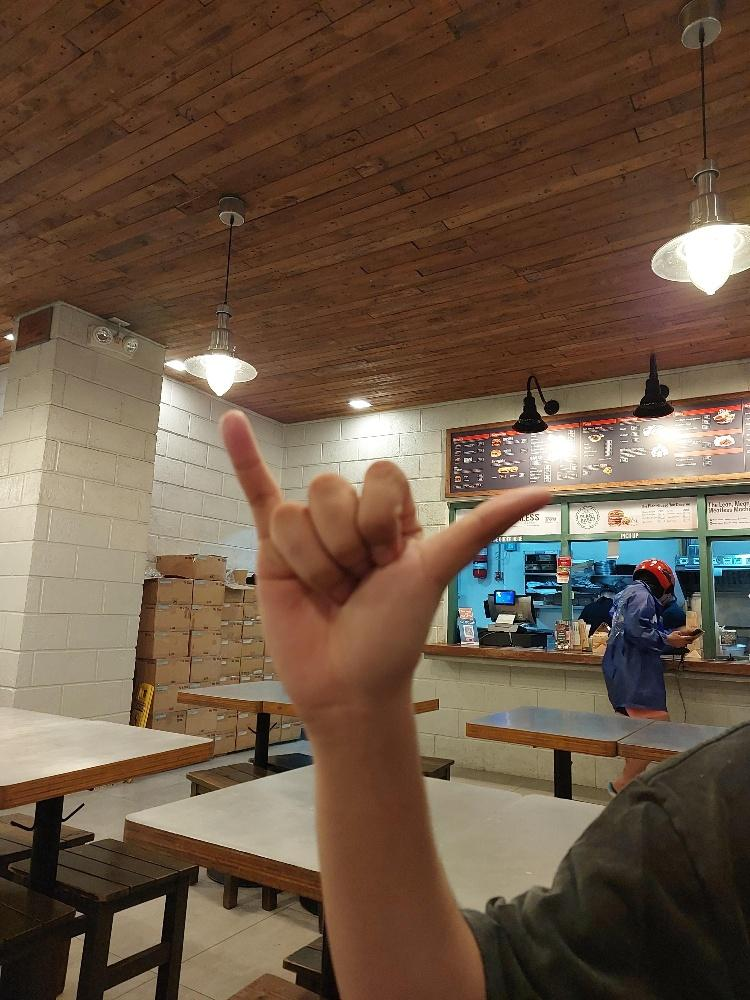y: (216, 406, 553, 710)
